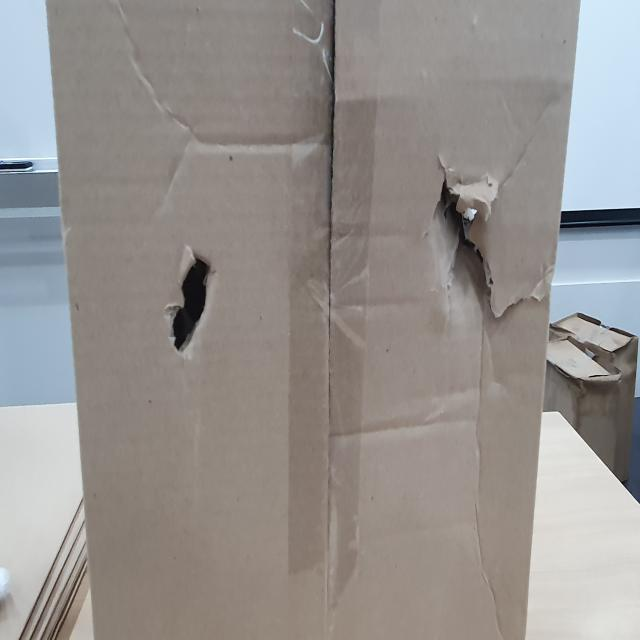hole: (430, 142, 540, 330), (166, 242, 218, 368)
